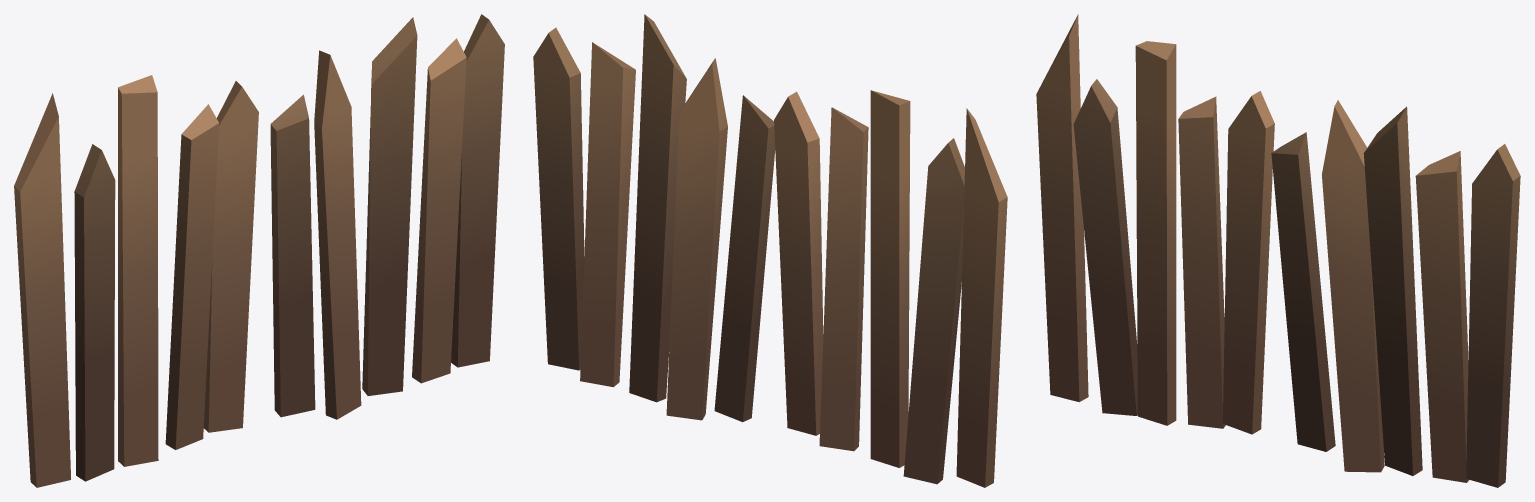
The model's file is Fence Wood V2 1.glb.
The picture shows the model from 3 angles, left to right: view 1: azimuth 30°, elevation 25°; view 2: azimuth 150°, elevation 25°; view 3: azimuth 330°, elevation 25°; orthographic projection. The views are drawn at different scales.
Parts seen in each view (by area): view 1: Fence Wood V2 1; view 2: Fence Wood V2 1; view 3: Fence Wood V2 1.
Part boxes in pixels (x1,y1,x2,y2): Fence Wood V2 1: [14, 14, 504, 487]; Fence Wood V2 1: [533, 14, 1007, 487]; Fence Wood V2 1: [1036, 14, 1520, 487].
Size of what is drawn, in the model's own units: 2 by 1.56 by 0.1994.
Materials: 1 (1 with a texture image).
